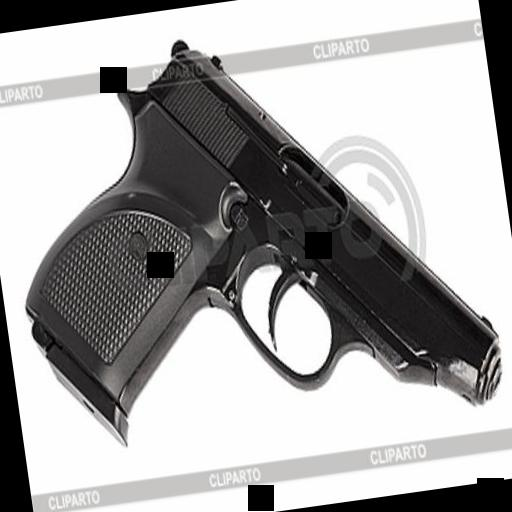Handgun: (0, 2, 500, 484)
